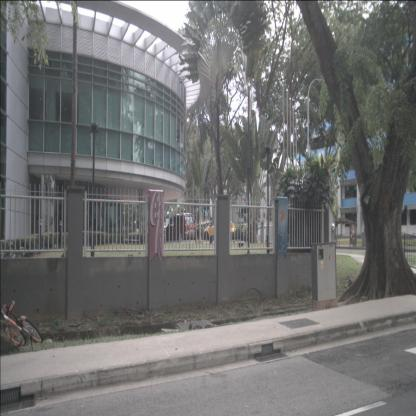vehicle-bicycle: (0, 300, 43, 352)
vehicle-car: (164, 212, 198, 242), (204, 216, 236, 242)
